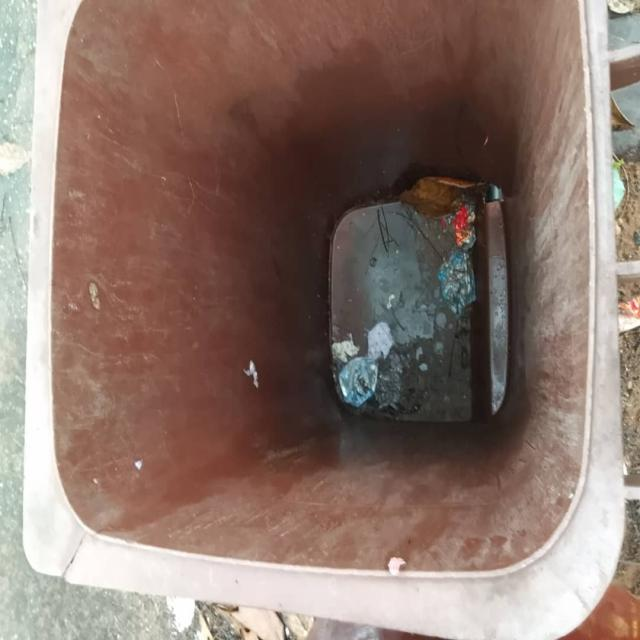empty: (32, 9, 615, 610)
